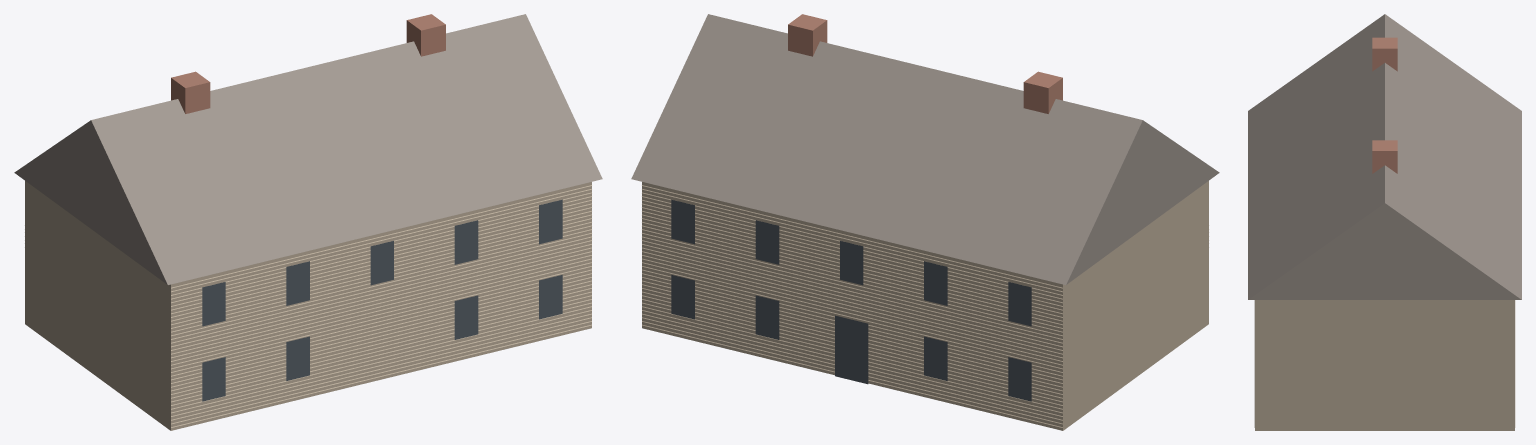
File: tremont_house_1__frame_1833.glb
3 views of the same model, side by side, from view 1: azimuth 30°, elevation 25°; view 2: azimuth 150°, elevation 25°; view 3: azimuth 270°, elevation 25° (orthographic). The views are drawn at different scales.
Visible parts, largest first — view 1: tremont_house_1__frame_1833; view 2: tremont_house_1__frame_1833; view 3: tremont_house_1__frame_1833.
Part boxes in pixels (x1=…): tremont_house_1__frame_1833: x1=14, y1=14, x2=602, y2=430; tremont_house_1__frame_1833: x1=631, y1=14, x2=1219, y2=430; tremont_house_1__frame_1833: x1=1248, y1=14, x2=1521, y2=430.
Bounding box in the file's own units: 15.74 × 9.52 × 9.64.
